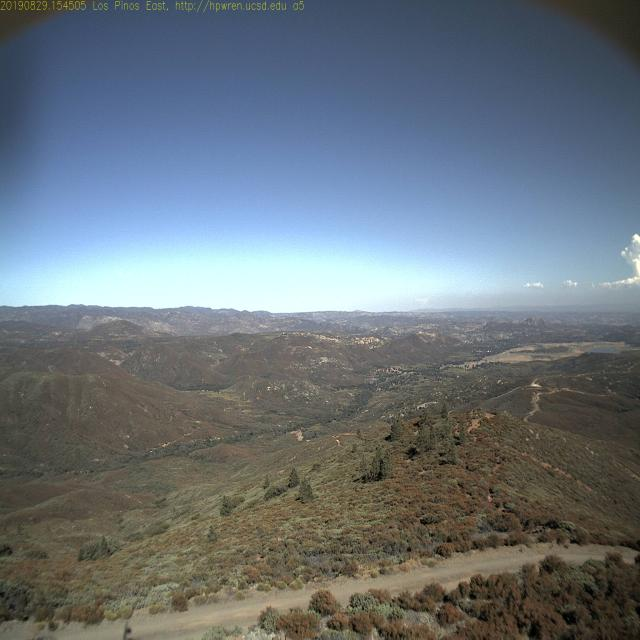smoke: (408, 293, 432, 311)
